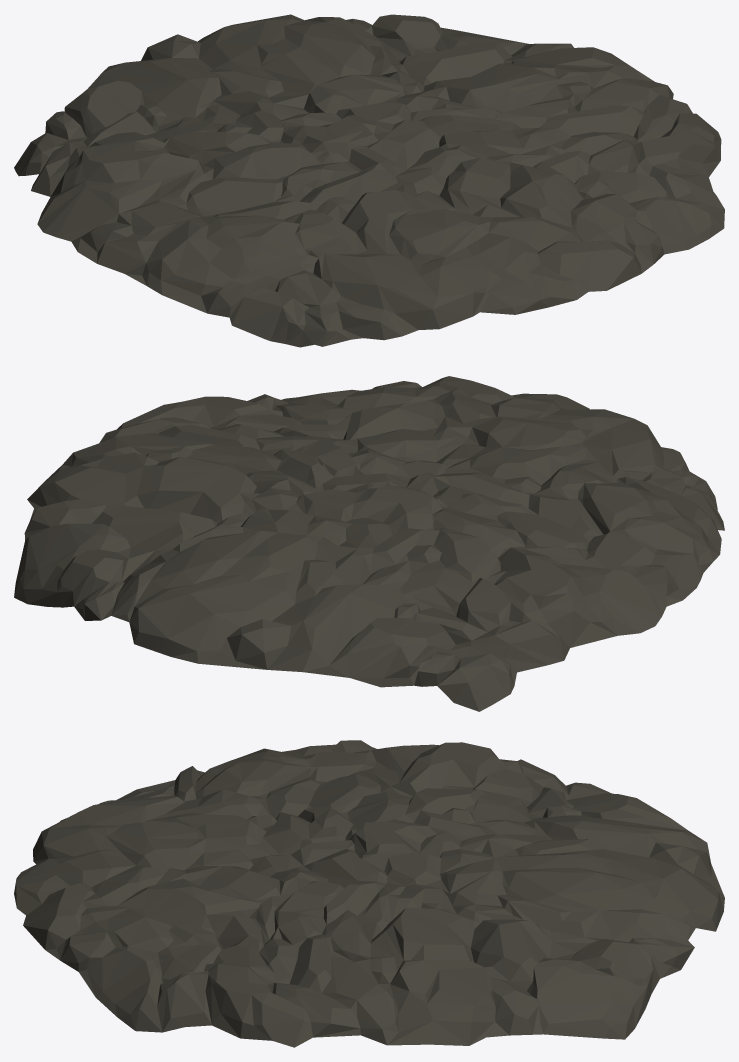
The model's file is synty-rock-tile-02.gltf.
3 views of the same model, one above another, from view 1: azimuth 30°, elevation 25°; view 2: azimuth 150°, elevation 25°; view 3: azimuth 270°, elevation 25° (orthographic).
Visible parts, largest first — view 1: SM_Rock_Tile_02; view 2: SM_Rock_Tile_02; view 3: SM_Rock_Tile_02.
Boxes of the visible parts, x1,y1,x2,y2 form: SM_Rock_Tile_02: (14, 14, 724, 347); SM_Rock_Tile_02: (14, 376, 724, 711); SM_Rock_Tile_02: (14, 740, 724, 1047).
Size of the model in its own units: 26.81 by 3.33 by 27.13.
1 material, 1 textured.
